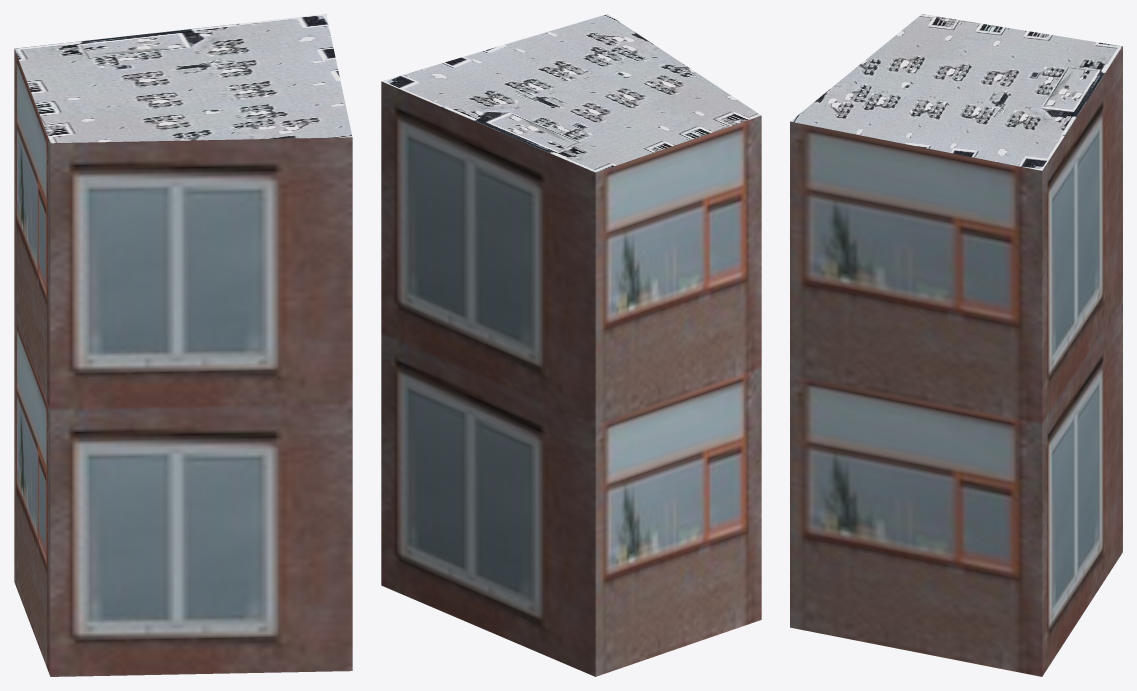
Rendered from ResTex__2669.fbx.
3 views of the same model, side by side, from view 1: azimuth 30°, elevation 25°; view 2: azimuth 150°, elevation 25°; view 3: azimuth 270°, elevation 25° (orthographic). The views are drawn at different scales.
Visible parts, largest first — view 1: CityEngineMaterial_19_m, CityEngineMaterial_4_m; view 2: CityEngineMaterial_19_m, CityEngineMaterial_4_m; view 3: CityEngineMaterial_19_m, CityEngineMaterial_4_m.
Boxes of the visible parts, box(x1,y1,x2,y2) form: CityEngineMaterial_19_m: box(14, 49, 352, 676); CityEngineMaterial_4_m: box(14, 14, 352, 143); CityEngineMaterial_19_m: box(381, 81, 761, 676); CityEngineMaterial_4_m: box(381, 14, 761, 172); CityEngineMaterial_19_m: box(790, 46, 1122, 676); CityEngineMaterial_4_m: box(790, 14, 1122, 170).
Bounding box in the file's own units: 3.99 × 6 × 3.58.
2 materials, 2 textured.
